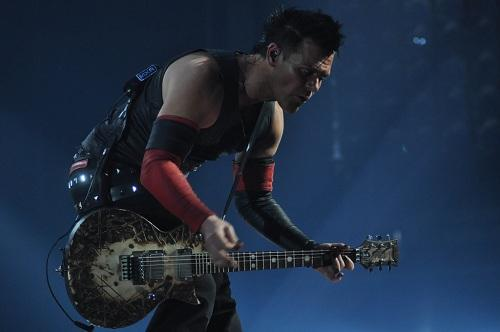acousticguitar: (66, 207, 405, 324)
